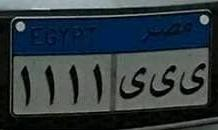1: (21, 64, 33, 107), (92, 62, 104, 103), (45, 63, 56, 105), (68, 62, 78, 104)
yaa: (178, 60, 208, 96), (120, 64, 149, 101), (150, 63, 177, 98)
